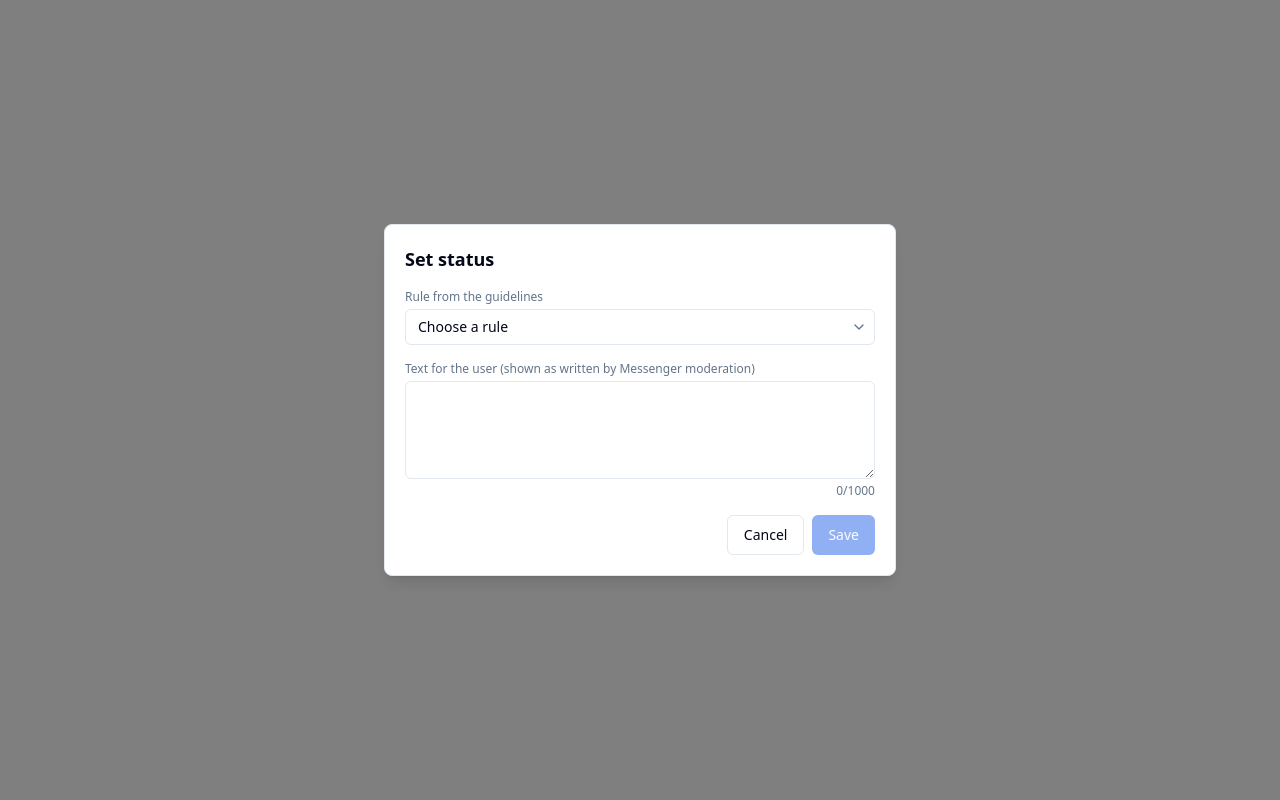
Test: DecisionDialog › shows the error and stays open when the decision fails
Select "Other" in the dropdown labelled "Rule from the guidelines" at point(640, 327), box left=405, top=309, right=875, bottom=345
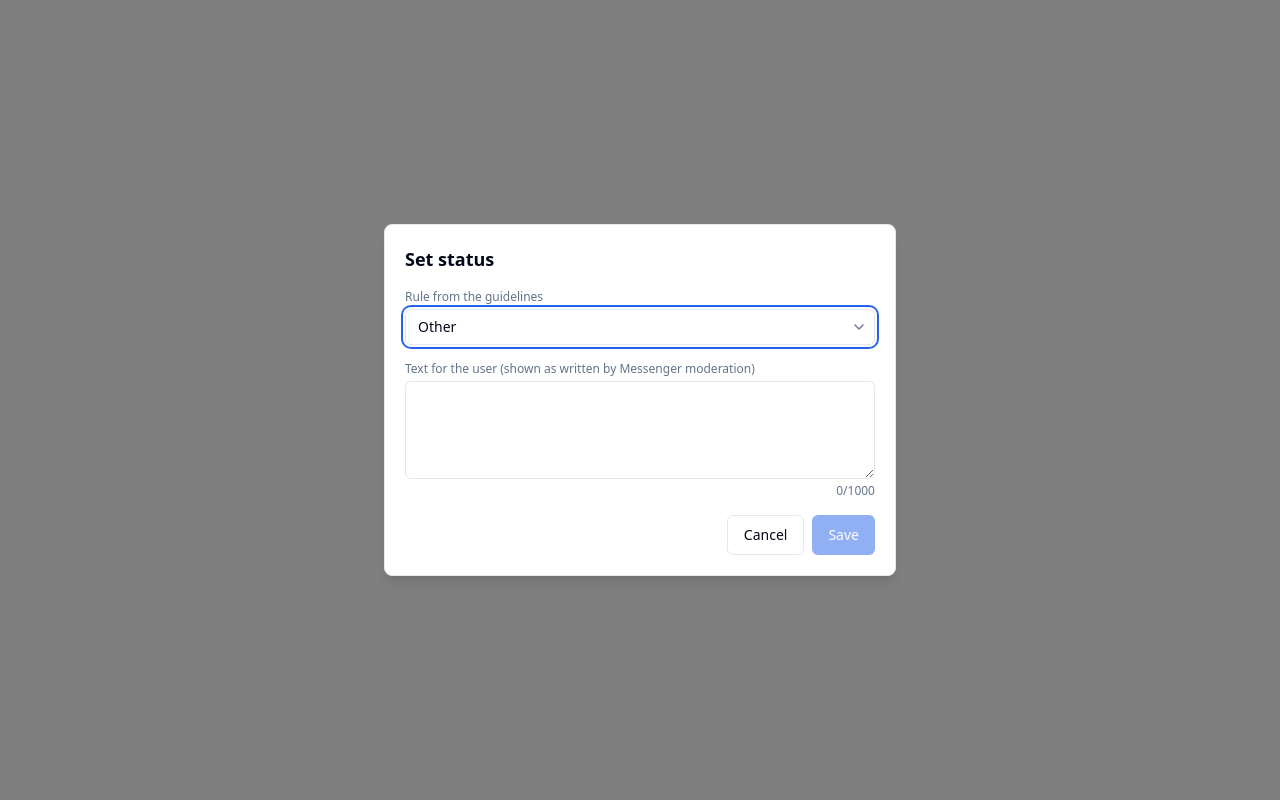
Type "No violation." into the text box labelled "Text for the user (shown as written by Messenger moderation)" at point(640, 430), box left=405, top=381, right=875, bottom=479
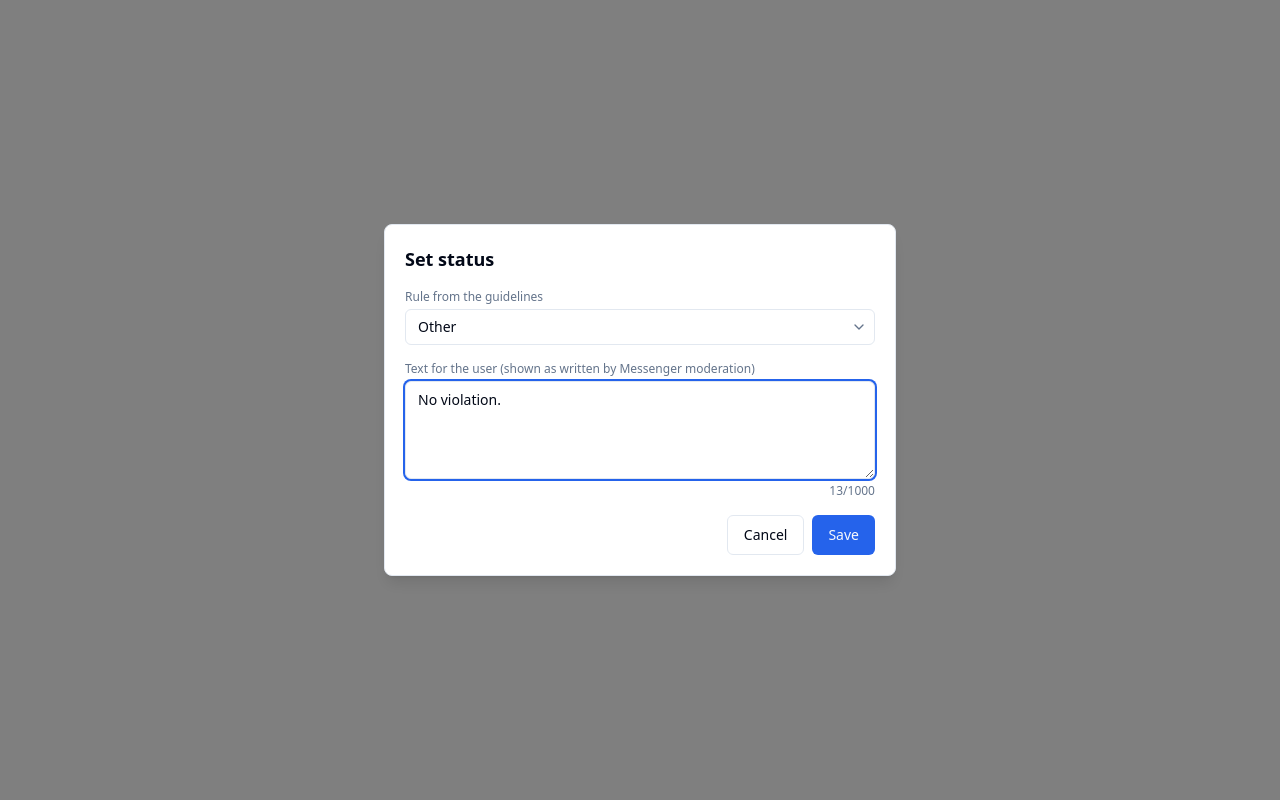
Click the button "Save" at point(844, 535), box left=812, top=515, right=875, bottom=555
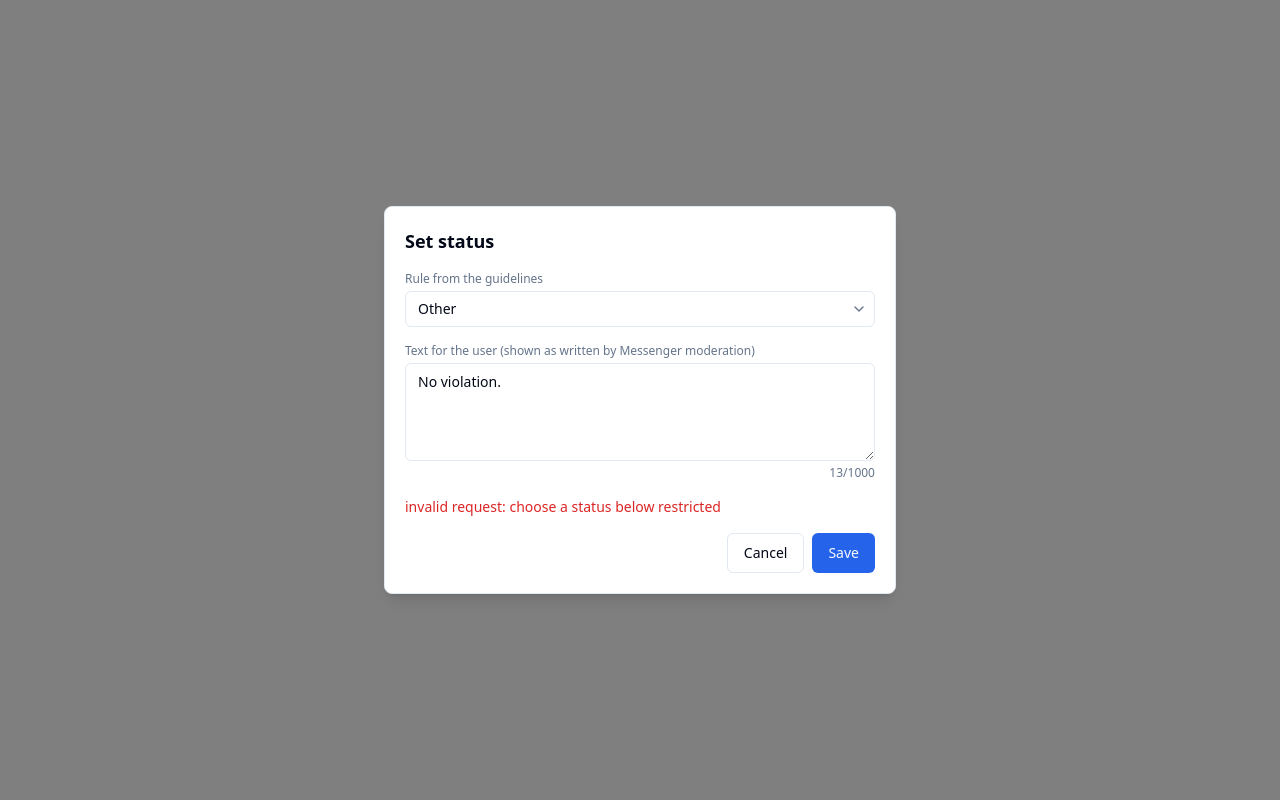
Check: the button "Save" is enabled, box left=812, top=533, right=875, bottom=573
Check: the message shows "choose a status below restricted", box left=405, top=497, right=721, bottom=516
